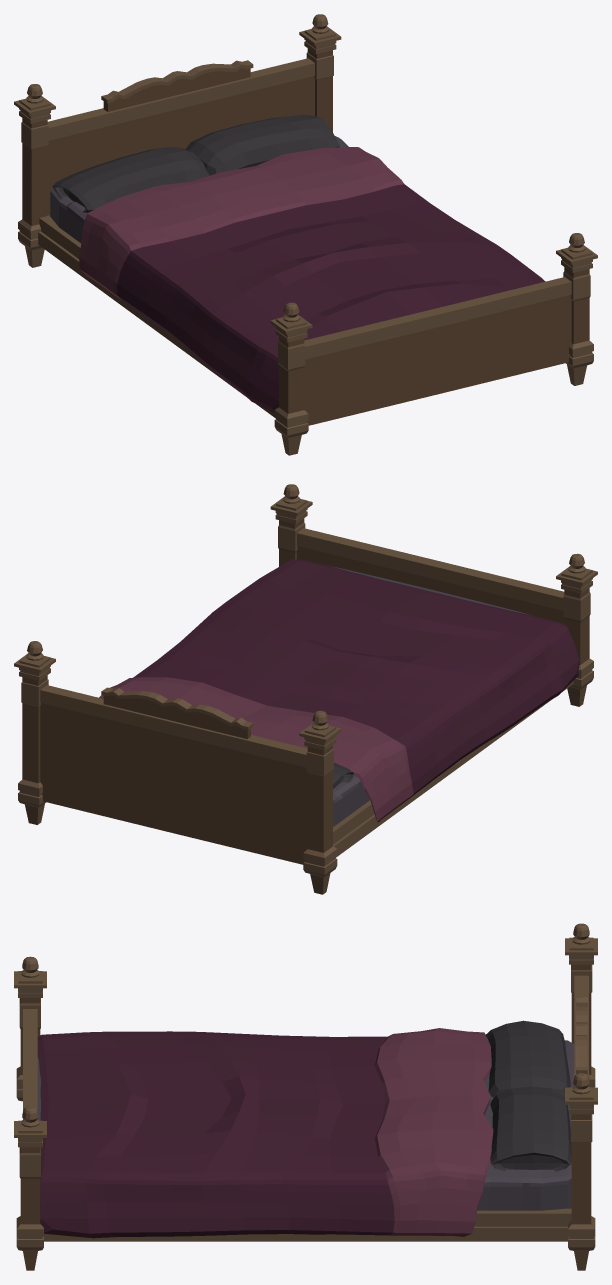
The model's file is bed-double.glb.
The picture shows the model from 3 angles, top to bottom: view 1: azimuth 30°, elevation 25°; view 2: azimuth 150°, elevation 25°; view 3: azimuth 270°, elevation 25°; orthographic projection. The views are drawn at different scales.
Parts seen in each view (by area): view 1: Pillow2; view 2: Pillow2; view 3: Pillow2.
Part boxes in pixels (bbox=[...]): Pillow2: bbox=[14, 14, 597, 455]; Pillow2: bbox=[14, 484, 597, 894]; Pillow2: bbox=[14, 923, 597, 1270].
Size of the model in its own units: 2.83 by 1.56 by 4.26.
Materials: 1 (1 with a texture image).
